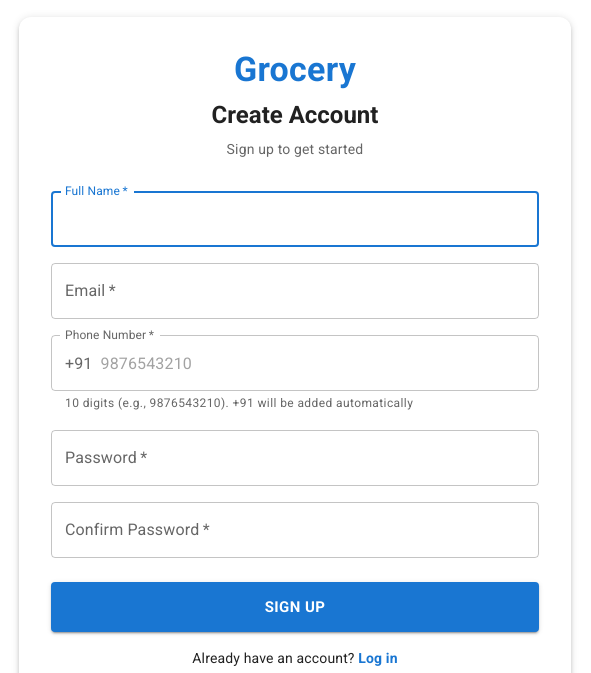
Test: SignupPage Component › shows error when phone number is invalid
Type "John Doe" into the field labelled "Full Name *".
click(295, 219); type("John Doe")  # box [51,191,539,247]
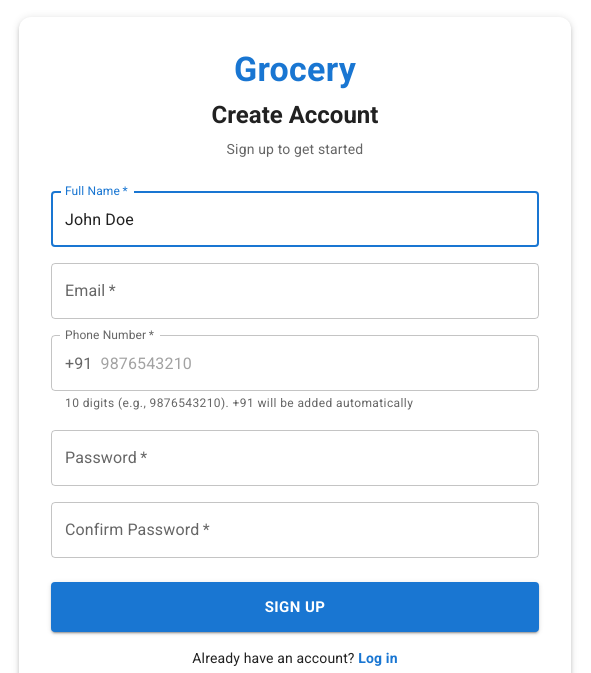
Type "john@example.com" into the field labelled "Email *".
click(295, 291); type("john@example.com")  # box [51,263,539,319]
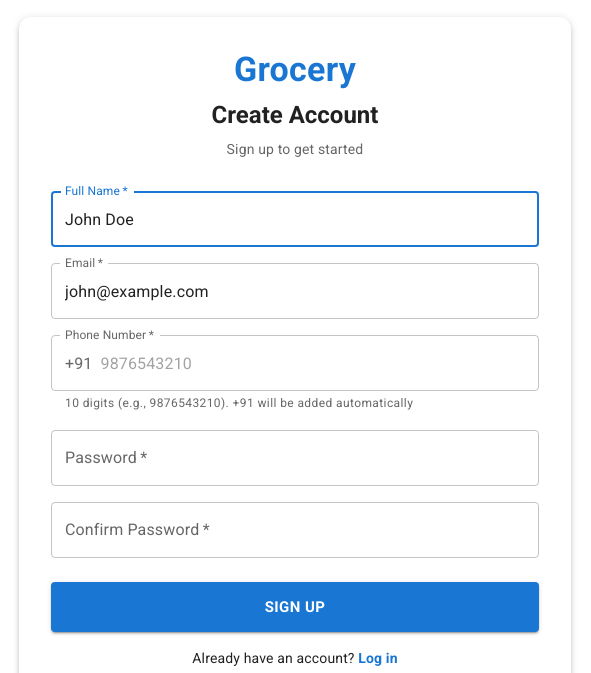
Type "1234567890" into the field labelled "Phone Number *".
click(320, 363); type("1234567890")  # box [100,335,539,391]
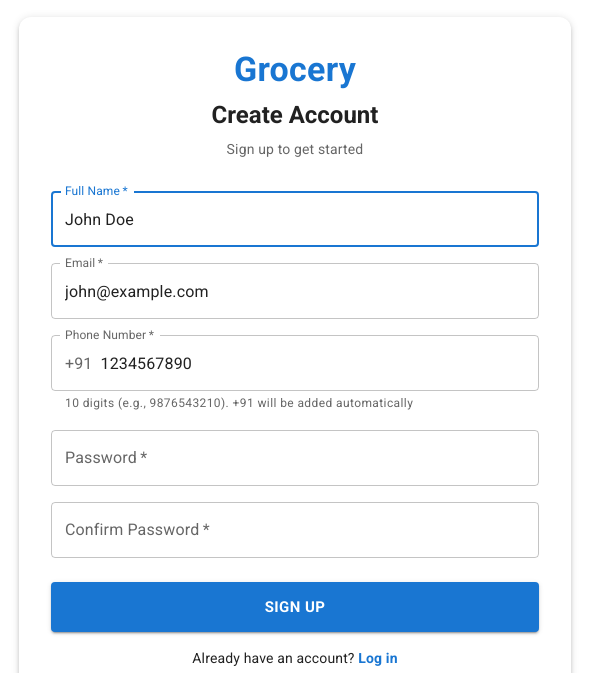
Type "password123" into the password field labelled "Password *".
click(295, 458); type("password123")  # box [51,430,539,486]
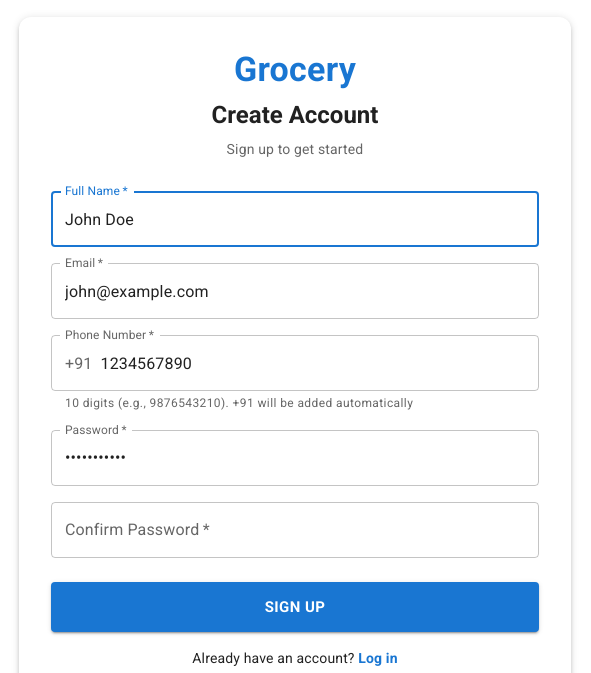
Type "password123" into the password field labelled "Confirm Password *".
click(295, 530); type("password123")  # box [51,502,539,558]
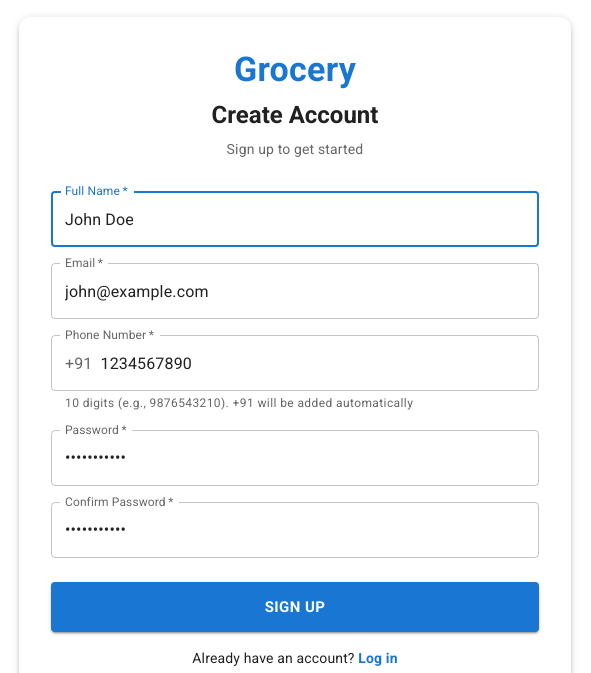
Click the button "Sign Up".
click(295, 607)  # box [51,582,539,632]
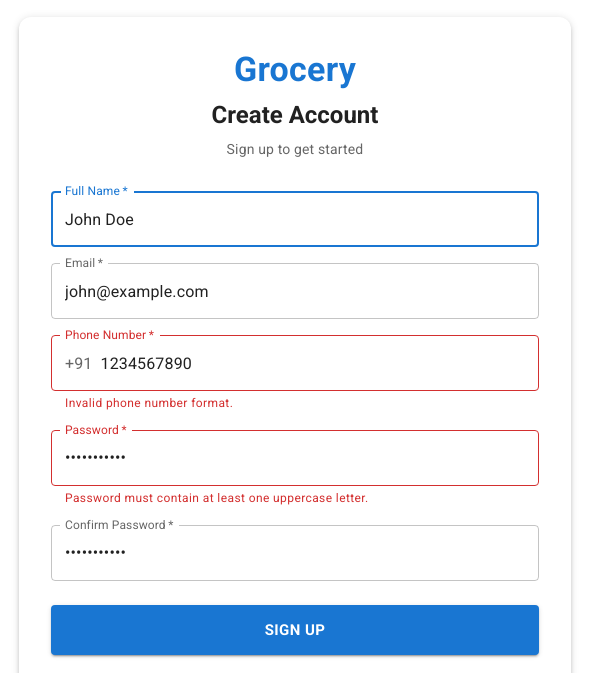
Expected: the text "Invalid phone number format." is shown, [65,396,233,410]
